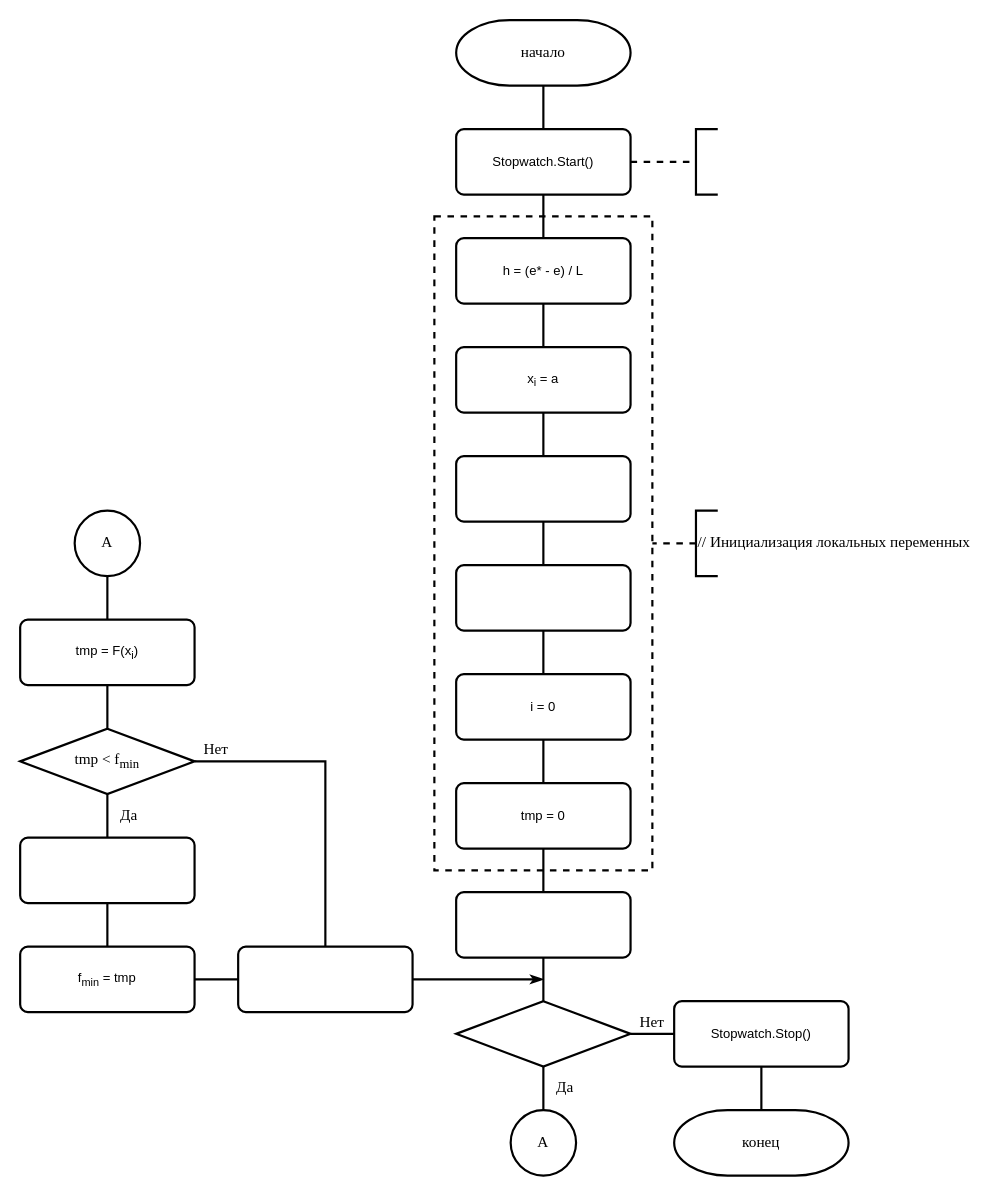
This 989x1195 diagram has some shape labels left out. Each missing label, with the box of its shape:
// Запуск таймера: (694, 128, 718, 195)
f min = F(x min ): (455, 564, 631, 631)
i = i + 1: (237, 945, 413, 1013)
x i < b: (455, 1000, 631, 1067)
x i = x i + h: (455, 891, 631, 958)
x min = a: (455, 455, 631, 522)
x min = x i: (19, 836, 195, 904)
